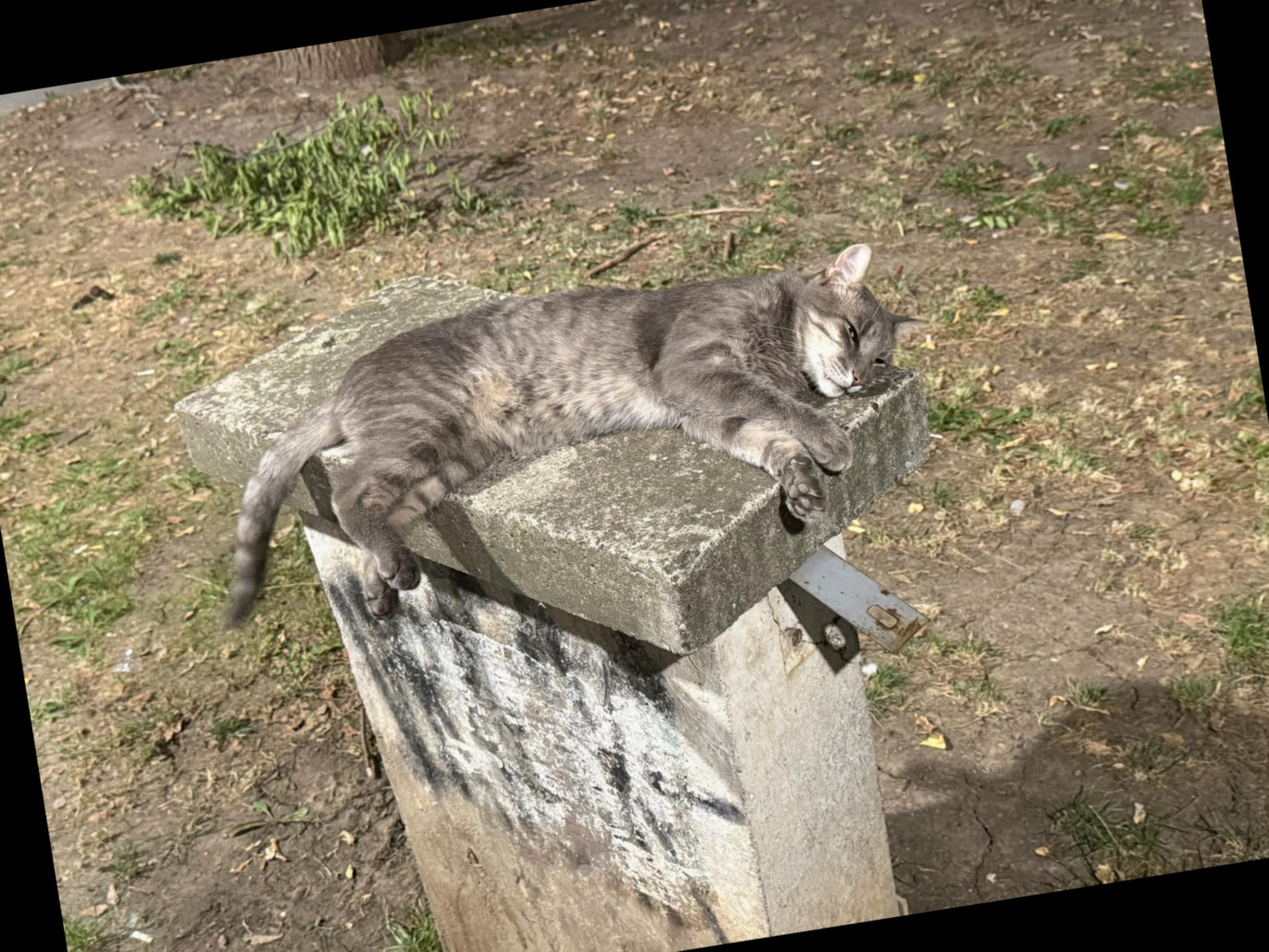macka: (184, 236, 929, 642)
